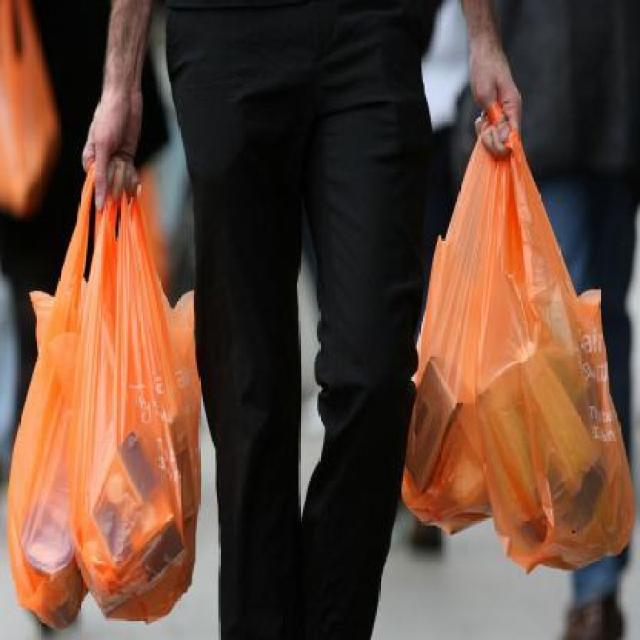plastic bag: (485, 116, 636, 598), (83, 158, 205, 624), (400, 101, 498, 564), (8, 157, 87, 632)
